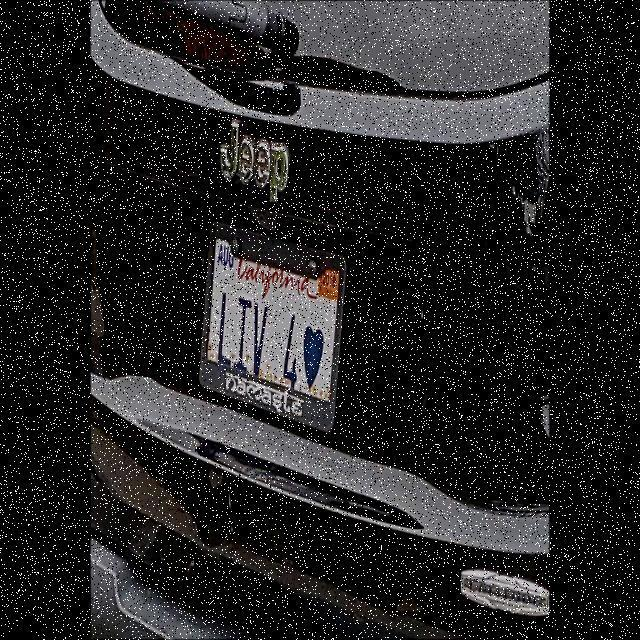LicensePlate: (204, 225, 336, 422)
